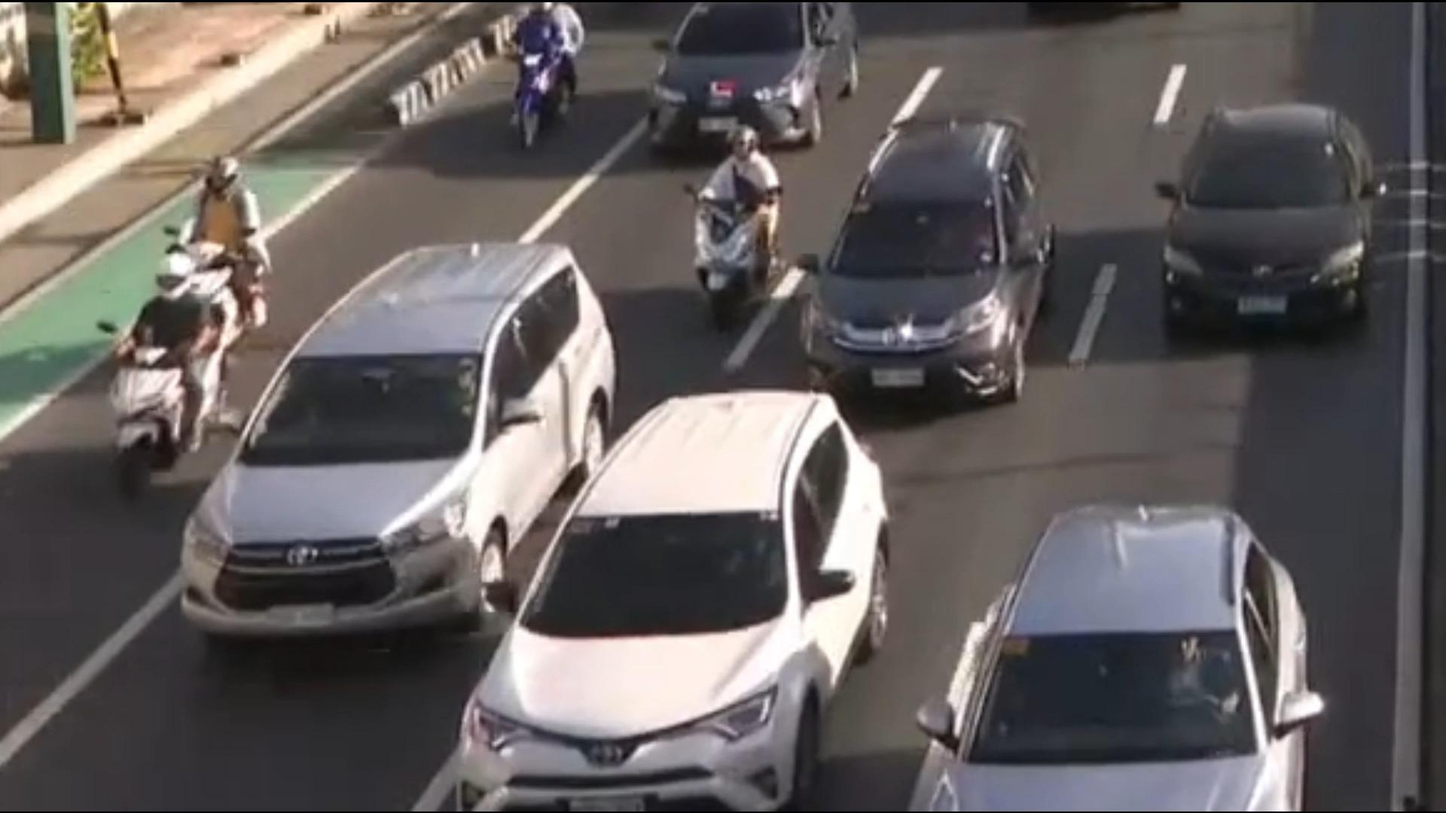Motorcycle: (93, 252, 230, 495), (163, 153, 274, 370), (684, 123, 784, 321), (503, 0, 582, 149)
SUV: (452, 385, 892, 813), (178, 239, 621, 653), (798, 108, 1059, 415)
Sedan: (917, 501, 1324, 813), (1152, 104, 1385, 342), (642, 0, 860, 158)
